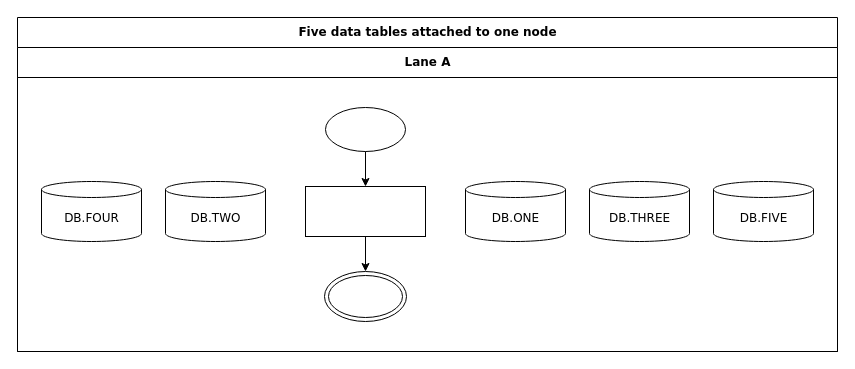
Some shapes in this 855 by 369 pixel diagram are drawn without their labels. Here are the shapes that lost their labels. From the top down, the centre of each, then its label:
At point (365, 129): "Enter".
At point (365, 211): "Reconcile".
At point (365, 296): "Done".
